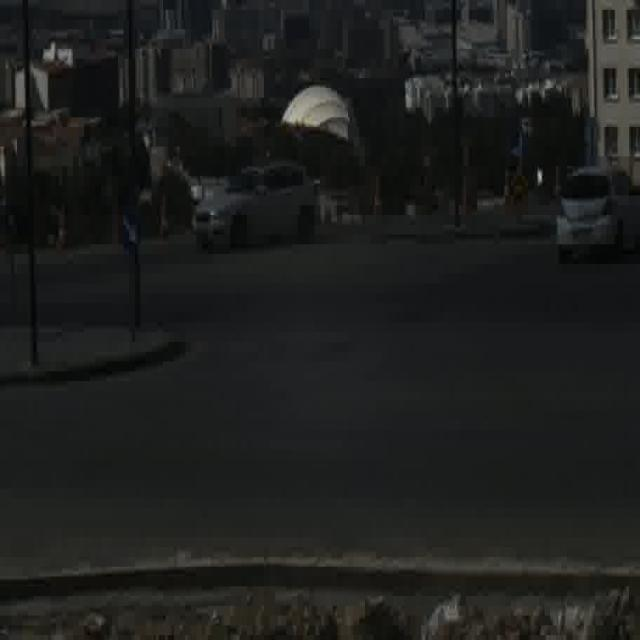Car: (192, 158, 316, 251), (551, 163, 640, 265)
